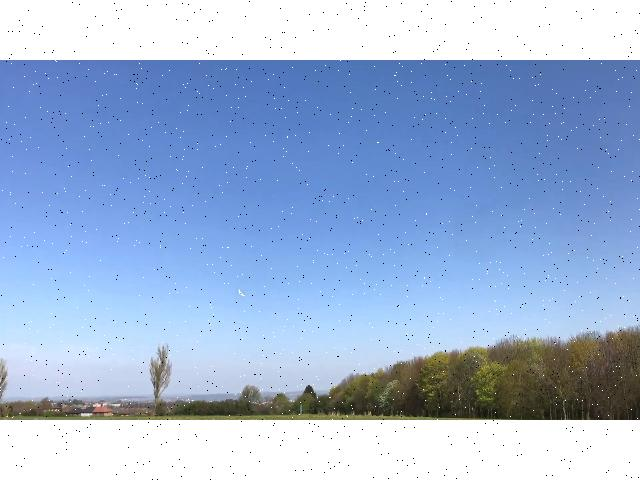Anti-Drone: (235, 287, 253, 304)
